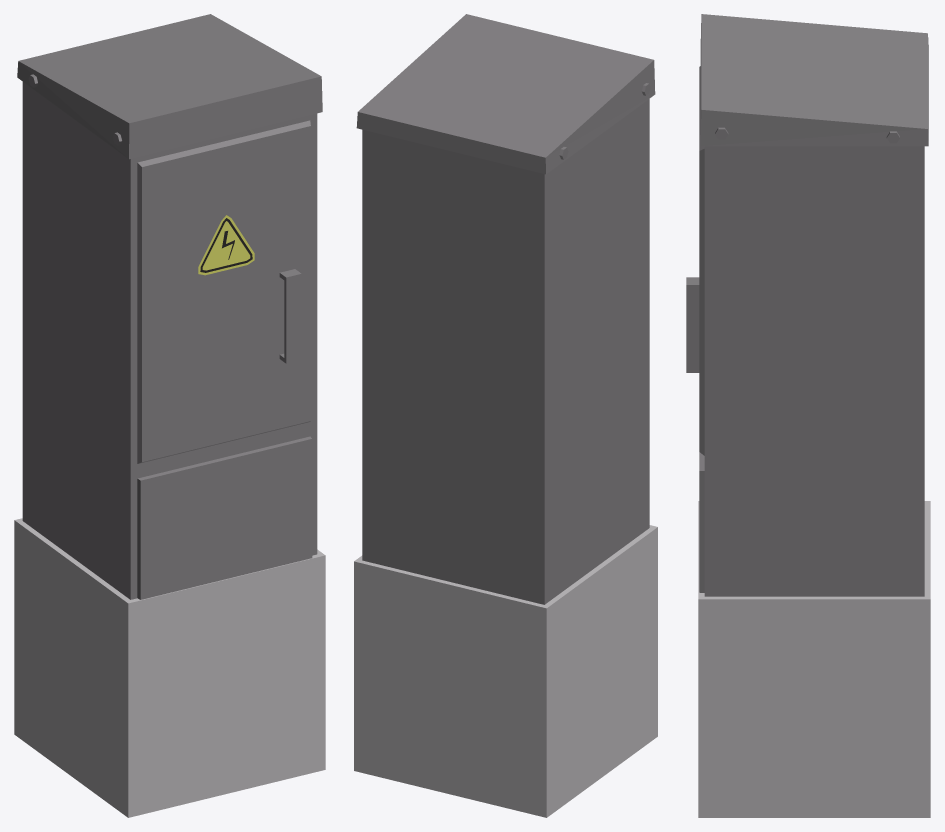
The model's file is power-box.glb.
3 views of the same model, side by side, from view 1: azimuth 30°, elevation 25°; view 2: azimuth 150°, elevation 25°; view 3: azimuth 270°, elevation 25° (orthographic). The views are drawn at different scales.
Parts seen in each view (by area): view 1: PowerBox; view 2: PowerBox; view 3: PowerBox.
Part boxes in pixels (bbox=[...]): PowerBox: bbox=[14, 14, 325, 817]; PowerBox: bbox=[354, 14, 657, 817]; PowerBox: bbox=[686, 14, 930, 817].
Bounding box in the file's own units: 0.2616 × 0.8707 × 0.2731.
1 material, 1 textured.
